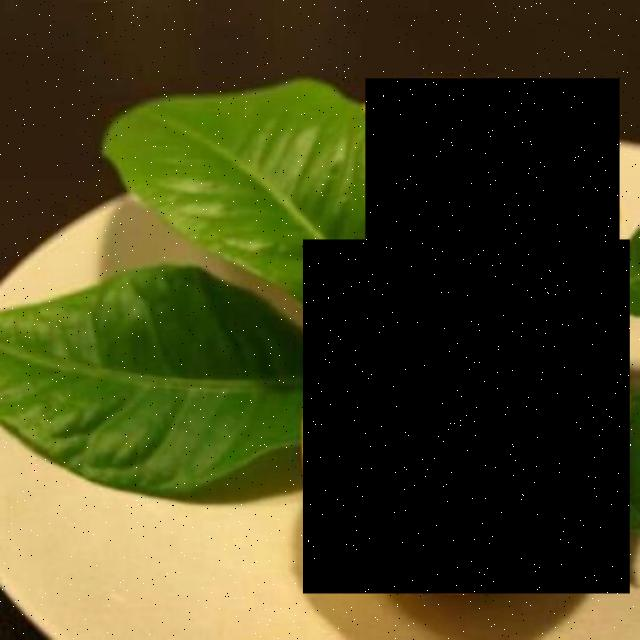Lemon: (303, 239, 630, 593), (365, 78, 620, 255)
